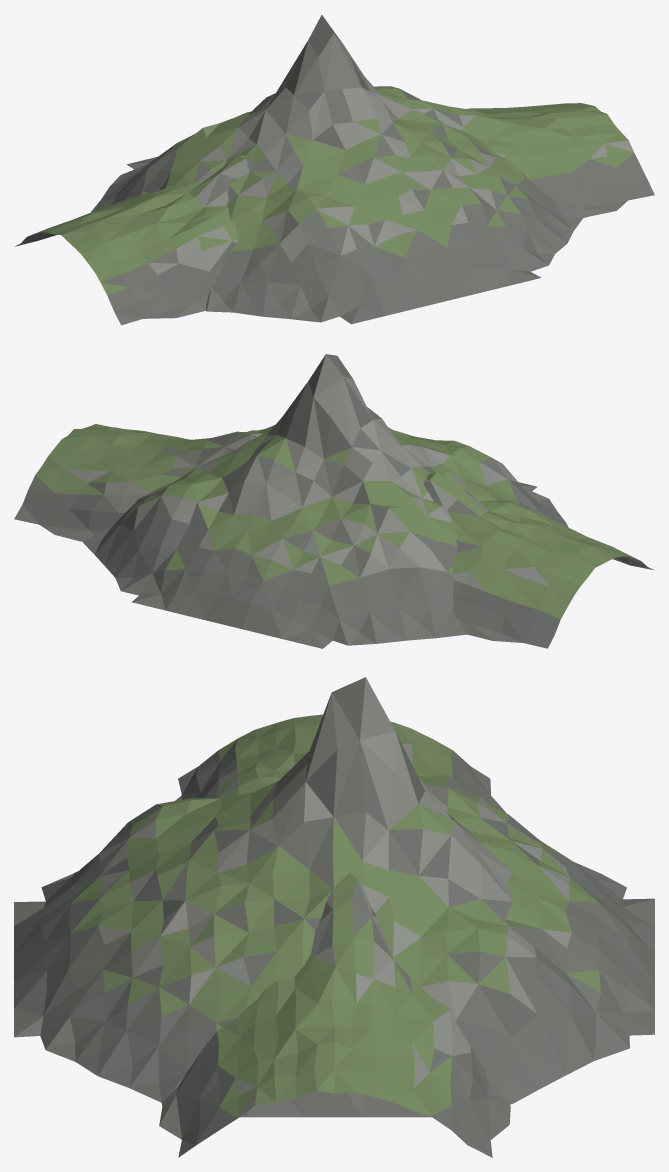
Rendered from Kit.fbx.
The picture shows the model from 3 angles, top to bottom: view 1: azimuth 30°, elevation 25°; view 2: azimuth 150°, elevation 25°; view 3: azimuth 270°, elevation 25°; orthographic projection. The views are drawn at different scales.
Visible parts, largest first — view 1: MountainA_R_RockDark, MountainA_R_Grass, MountainB_R_Grass, MountainA_R_Rock, MountainB_R_RockDark, MountainB_R_Rock; view 2: MountainA_R_RockDark, MountainB_R_Grass, MountainA_R_Rock, MountainA_R_Grass, MountainB_R_RockDark, MountainB_R_Rock; view 3: MountainA_R_RockDark, MountainA_R_Grass, MountainB_R_Grass, MountainA_R_Rock, MountainB_R_RockDark, MountainB_R_Rock.
Boxes of the visible parts, <box> form: MountainA_R_RockDark: <box>91,15,582,324</box>; MountainA_R_Grass: <box>141,86,529,257</box>; MountainB_R_Grass: <box>32,99,633,295</box>; MountainA_R_Rock: <box>143,33,514,262</box>; MountainB_R_RockDark: <box>15,108,654,325</box>; MountainB_R_Rock: <box>148,108,634,274</box>; MountainA_R_RockDark: <box>83,354,568,648</box>; MountainB_R_Grass: <box>35,424,639,619</box>; MountainA_R_Rock: <box>133,354,518,577</box>; MountainA_R_Grass: <box>139,425,520,585</box>; MountainB_R_RockDark: <box>14,433,654,648</box>; MountainB_R_Rock: <box>63,433,554,592</box>; MountainA_R_RockDark: <box>14,677,654,1117</box>; MountainA_R_Grass: <box>70,775,600,1031</box>; MountainB_R_Grass: <box>216,714,453,1117</box>; MountainA_R_Rock: <box>98,678,571,1020</box>; MountainB_R_RockDark: <box>159,739,510,1157</box>; MountainB_R_Rock: <box>204,744,470,1117</box>.
Bounding box in the file's own units: 840 × 299 × 600.
